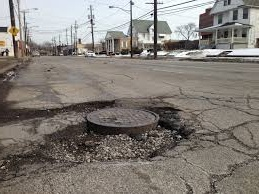pothole: (42, 122, 187, 162), (0, 94, 82, 124), (0, 143, 41, 183), (78, 97, 112, 110), (154, 103, 177, 122)
